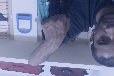hand: (40, 13, 71, 47)
